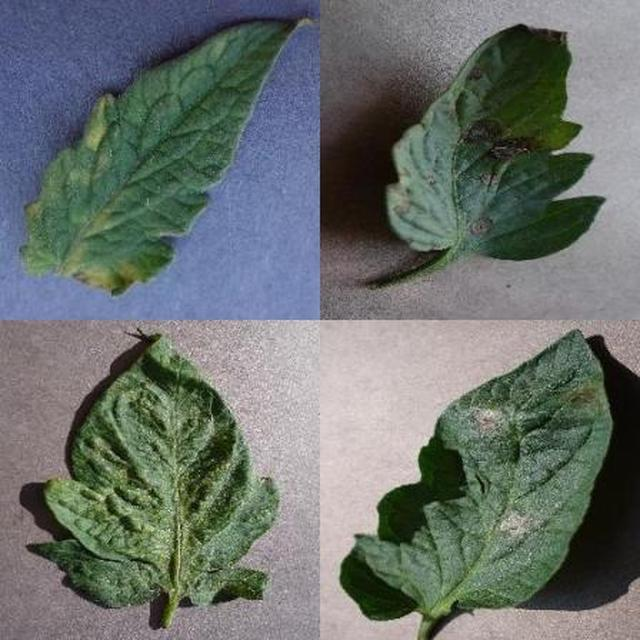Leaf Mold: (218, 205, 640, 640)
